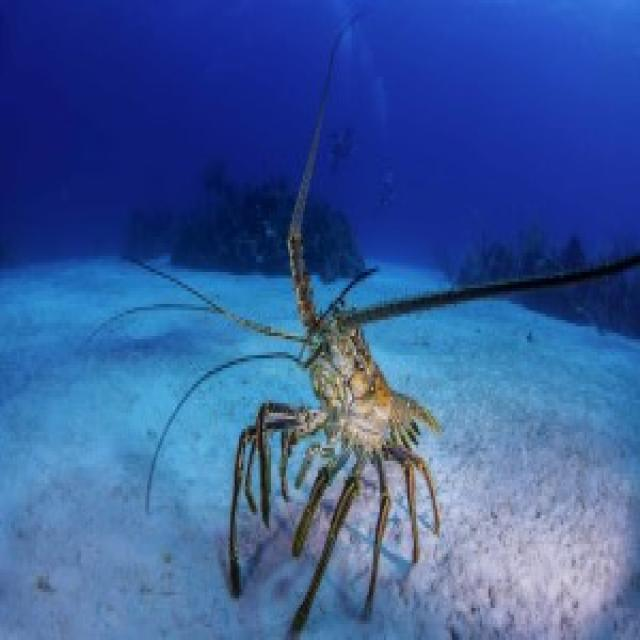lobsters: (139, 141, 550, 640)
